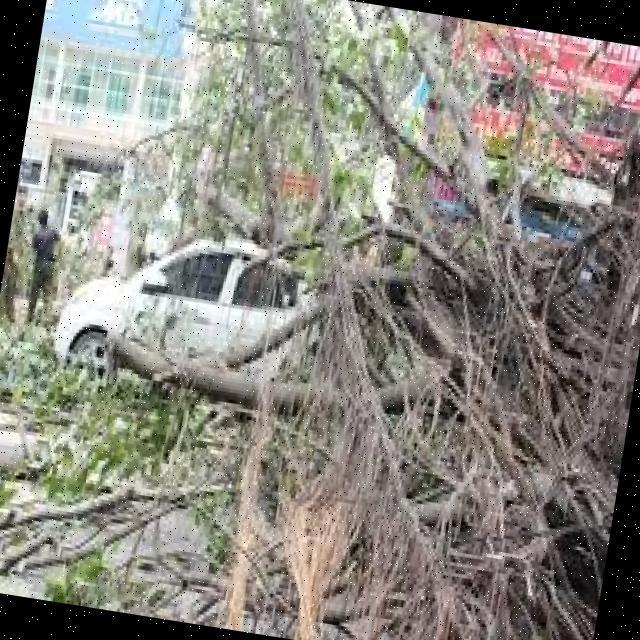fallen_object: (27, 254, 640, 640)
